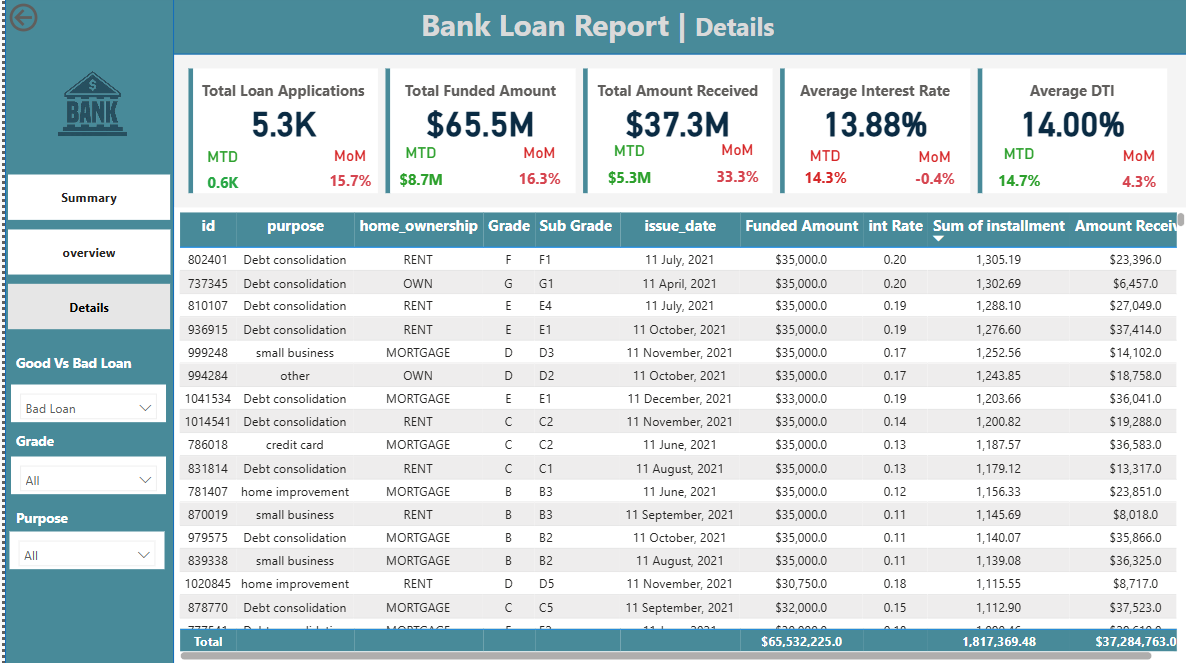

This screenshot's page, from the dashboard's own definition file:
{"tool":"powerbi","page":{"name":"Details","canvas":[1280,720],"ordinal":2},"visuals":[{"type":"shape","box":[0,0,1280.8,59.9],"z":0},{"type":"card","title":"MoM","fields":{"Values":["MoM Measure.MoM Amount Received"]},"box":[750.4,153,81.7,62.9],"z":0,"group":"g3"},{"type":"card","title":"MoM","fields":{"Values":["MoM Measure.MoM Funded Amount"]},"box":[536.6,155.1,81.7,60.8],"z":0,"group":"g2"},{"type":"card","title":"MTD","fields":{"Values":["MTD Measure.MTD Average DTI"]},"box":[1054.3,157.2,81,61.5],"z":0,"group":"g5"},{"type":"card","title":"MTD","fields":{"Values":["MTD Measure.MTD Average Interest Rate"]},"box":[846.8,159.5,77.1,52.1],"z":0,"group":"g4"},{"type":"card","title":"MTD","fields":{"Values":["MTD Measure.MTD Loan Applications"]},"box":[194.9,160.8,81.1,60.1],"z":0,"group":"g1"},{"type":"shape","box":[0,0,182.6,720.9],"z":1000},{"type":"card","title":"MTD","fields":{"Values":["MTD Measure.MTD Funded Amount"]},"box":[408.7,155.1,81.7,62.9],"z":1000,"group":"g2"},{"type":"card","title":"MTD","fields":{"Values":["MTD Measure.MTD Amount Received"]},"box":[633,155.1,81.7,62.9],"z":1000,"group":"g3"},{"type":"card","title":"MoM","fields":{"Values":["MoM Measure.MoM Avg DTI"]},"box":[1183.8,158.8,81,61.5],"z":1000,"group":"g5"},{"type":"card","title":"MoM","fields":{"Values":["MoM Measure.MoM Loan Applications"]},"box":[332.3,159.3,81.2,59.5],"z":1000,"group":"g1"},{"type":"card","title":"MoM","fields":{"Values":["MoM Measure.MoM Avg Interest Rate"]},"box":[965.6,160.9,77.1,52.1],"z":1000,"group":"g4"},{"type":"textbox","box":[377.7,0,524.6,59.9],"z":2000},{"type":"image","box":[14.5,58,159.4,108.7],"z":3000},{"type":"slicer","fields":{"Values":["bank_loan_data.Good Vs Bad Loans"]},"box":[7,416.3,167.4,40.7],"z":4000},{"type":"textbox","box":[6.9,377.1,165.3,39.6],"z":5000},{"type":"slicer","fields":{"Values":["bank_loan_data.grade"]},"box":[7,494.2,167.4,40.7],"z":6000},{"type":"textbox","box":[7,461.6,74.4,32.6],"z":7000},{"type":"slicer","fields":{"Values":["bank_loan_data.purpose"]},"box":[4.7,574.4,167.4,40.7],"z":8000},{"type":"textbox","box":[5.8,544.2,176.7,33.7],"z":9000},{"type":"tableEx","fields":{"Values":["bank_loan_data.id","bank_loan_data.purpose","bank_loan_data.home_ownership","bank_loan_data.grade","bank_loan_data.sub_grade","bank_loan_data.issue_date","Measure.Total Funded Amount","bank_loan_data.int_rate","Sum(bank_loan_data.installment)","Measure.Total Amount Received"]},"box":[183.2,225.6,1095.7,493.6],"z":10000},{"type":"actionButton","box":[0,0,100,40],"z":11000},{"type":"pageNavigator","box":[2.9,189.9,175.4,169.6],"z":12000},{"type":"cardVisual","fields":{"Data":["Measure.Total Loan Applications","Measure.Total Funded Amount","Measure.Total Amount Received","Measure.Average Interest Rate","Measure.Average DTI"]},"box":[192.2,69.5,1072,145.9],"z":13000},{"type":"group","id":"g1","title":"total apps G","box":[194.9,159.3,218,60.8],"z":14000},{"type":"group","id":"g2","title":"funded amount G","box":[408.7,155.1,209.6,62.9],"z":15000},{"type":"group","id":"g3","title":"amount received G","box":[633,153,199.1,65],"z":16000},{"type":"group","id":"g4","title":"AVG interest rate G","box":[846.8,159.5,195.9,53.4],"z":17000},{"type":"group","id":"g5","title":"avg DTI G","box":[1054.3,157.2,209.6,62.9],"z":18000}]}

Visuals, with their boxes on the page's 1280x720 design canvas (x1, y1, x2, y2). These are canvas units, not pixel positions in the 1186x663 screenshot, which may show the page scaled, cropped or inside an application window:
shape: box=[0, 0, 1281, 60]
"MoM" card: box=[750, 153, 832, 216]
"MoM" card: box=[537, 155, 618, 216]
"MTD" card: box=[1054, 157, 1135, 219]
"MTD" card: box=[847, 160, 924, 212]
"MTD" card: box=[195, 161, 276, 221]
shape: box=[0, 0, 183, 721]
"MTD" card: box=[409, 155, 490, 218]
"MTD" card: box=[633, 155, 715, 218]
"MoM" card: box=[1184, 159, 1265, 220]
"MoM" card: box=[332, 159, 414, 219]
"MoM" card: box=[966, 161, 1043, 213]
textbox: box=[378, 0, 902, 60]
image: box=[14, 58, 174, 167]
slicer - bank_loan_data.Good Vs Bad Loans: box=[7, 416, 174, 457]
textbox: box=[7, 377, 172, 417]
slicer - bank_loan_data.grade: box=[7, 494, 174, 535]
textbox: box=[7, 462, 81, 494]
slicer - bank_loan_data.purpose: box=[5, 574, 172, 615]
textbox: box=[6, 544, 182, 578]
tableEx - bank_loan_data.id x bank_loan_data.purpose: box=[183, 226, 1279, 719]
actionButton: box=[0, 0, 100, 40]
pageNavigator: box=[3, 190, 178, 360]
cardVisual - Measure.Total Loan Applications x Measure.Total Funded Amount: box=[192, 70, 1264, 215]
"total apps G" group: box=[195, 159, 413, 220]
"funded amount G" group: box=[409, 155, 618, 218]
"amount received G" group: box=[633, 153, 832, 218]
"AVG interest rate G" group: box=[847, 160, 1043, 213]
"avg DTI G" group: box=[1054, 157, 1264, 220]
